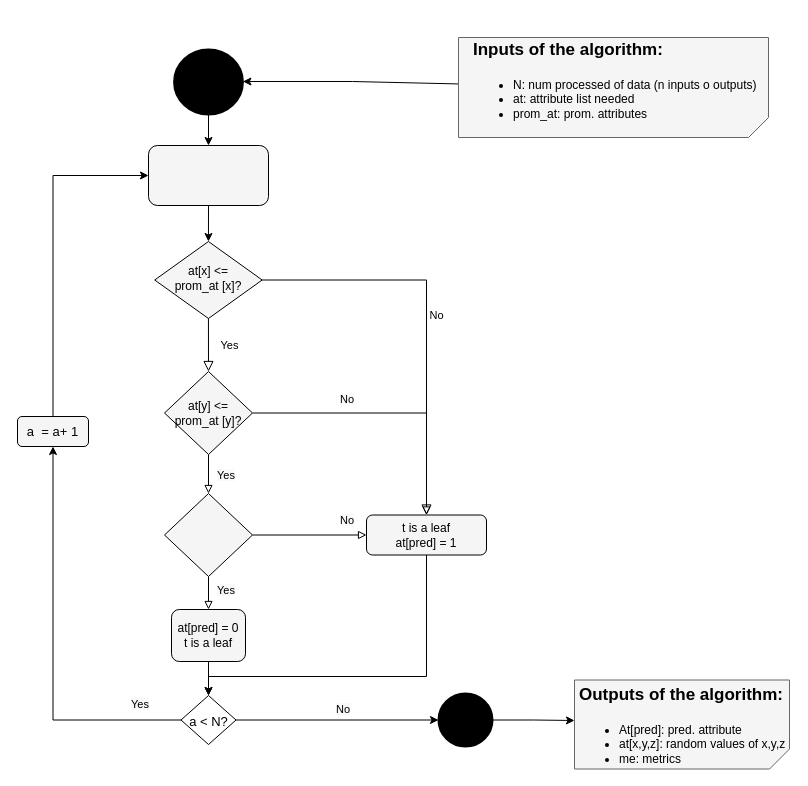
The diagram is 808 pixels wide and 786 high, and some of its shapes have lost their labels. Here are the shapes that lost their labels. From the top down, the centre of each, then its label:
At (208,81): "Start".
At (208,175): "a = 0 at[x,y,z] = Random()".
At (208,534): "at[z] <= prom_at [z]?".
At (465,719): "End".
